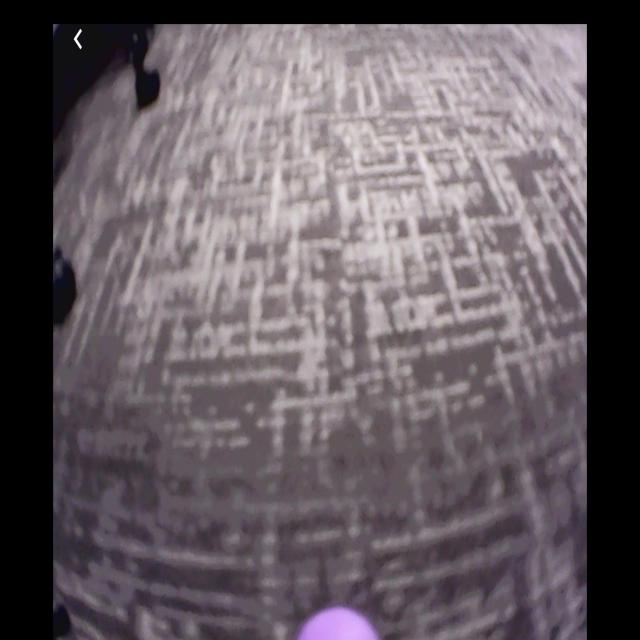ball: (298, 608, 381, 640)
